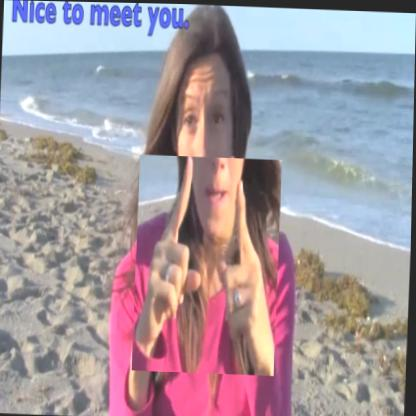NiceToMeetYou: (133, 153, 282, 374)
